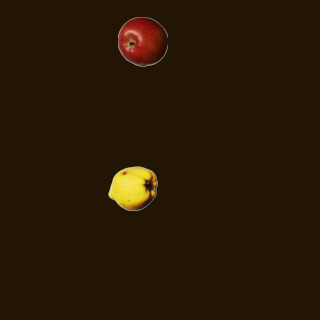Apple Braeburn: (117, 16, 167, 66)
Quince: (107, 163, 157, 213)
